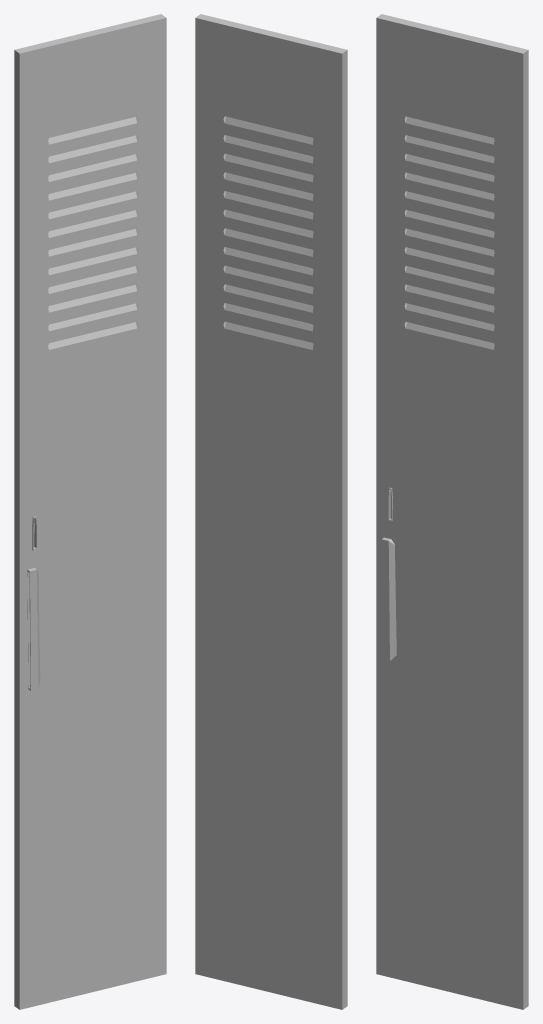
File: cabindoor.fbx
3 views of the same model, side by side, from view 1: azimuth 30°, elevation 25°; view 2: azimuth 150°, elevation 25°; view 3: azimuth 330°, elevation 25° (orthographic).
Parts seen in each view (by area): view 1: Cabine.001; view 2: Cabine.001; view 3: Cabine.001.
Boxes of the visible parts, x1,y1,x2,y2 form: Cabine.001: (14,14,166,1009); Cabine.001: (195,14,347,1009); Cabine.001: (376,14,528,1009).
Size of the model in its own units: 29.01 by 180 by 2.66.
